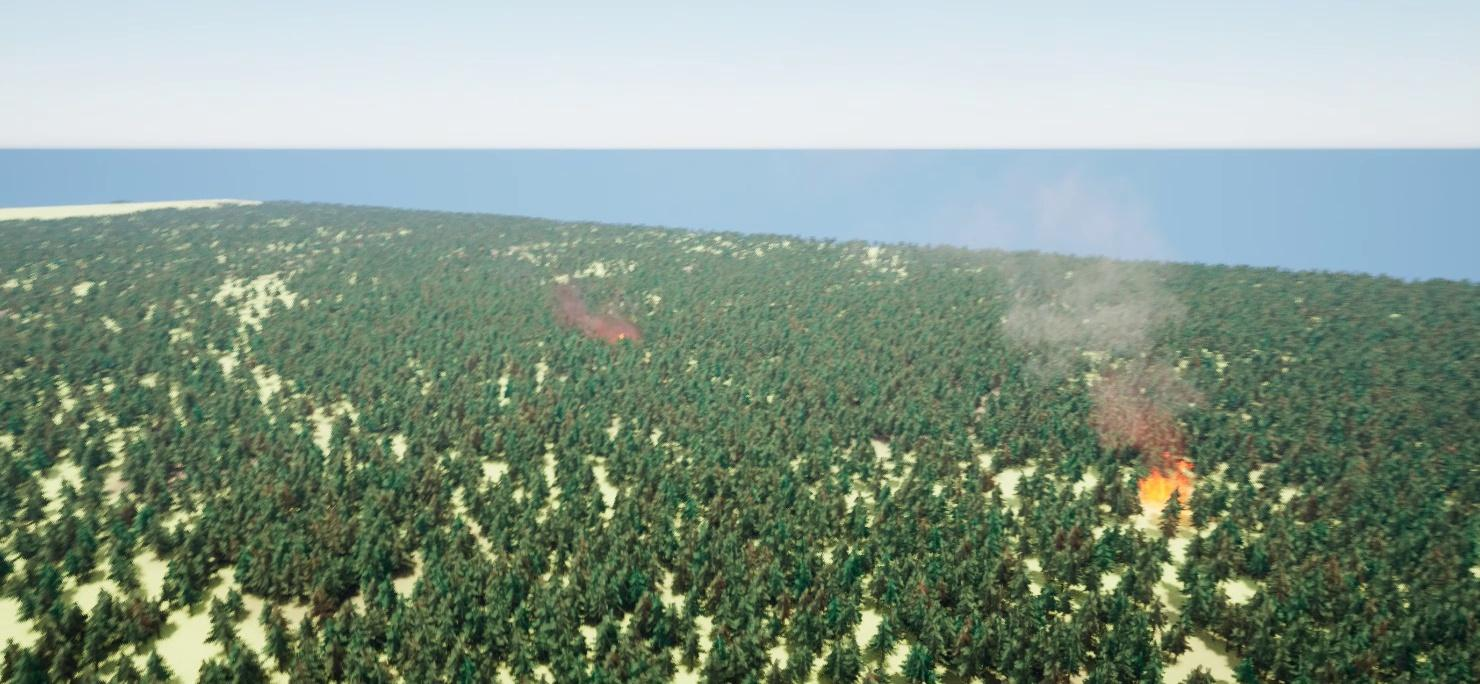fire: (1133, 466, 1194, 510)
smoke: (943, 156, 1207, 457), (549, 287, 646, 351)
